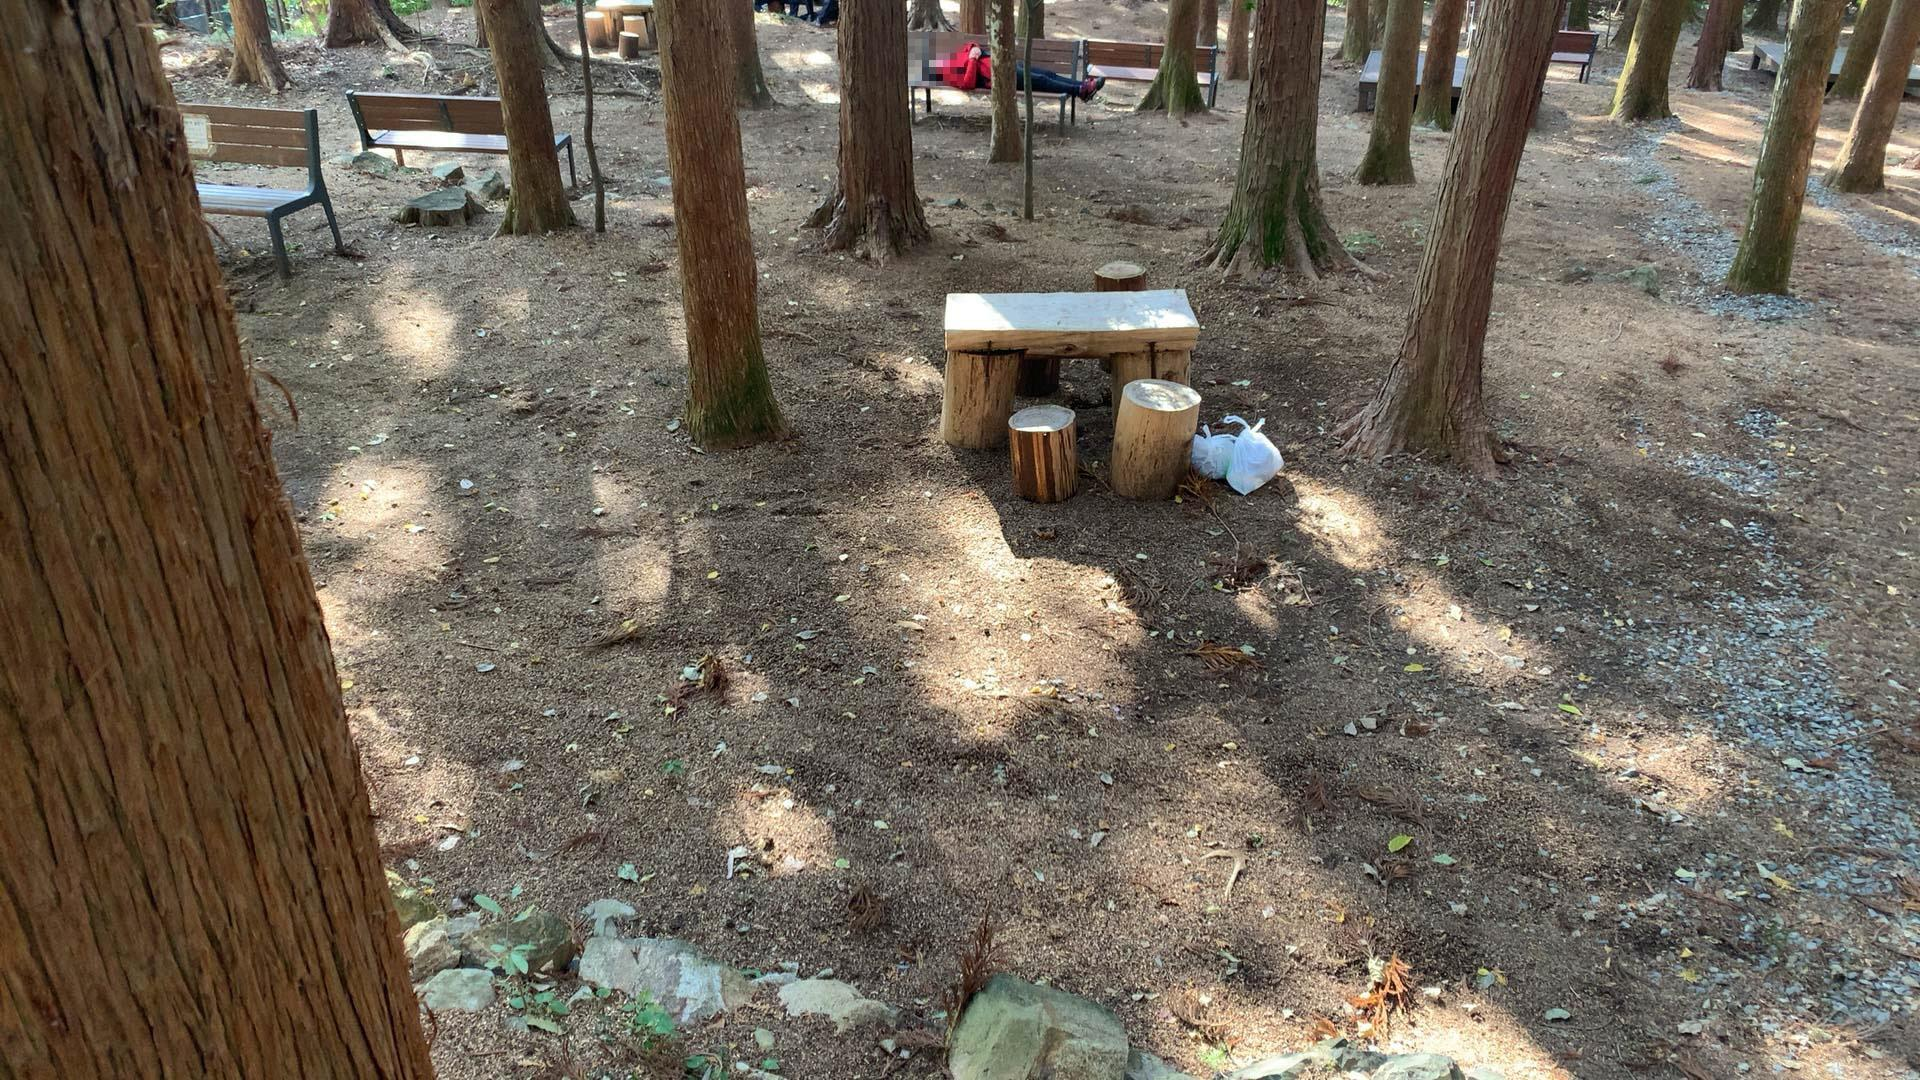white_bag: (1220, 410, 1287, 498), (1182, 419, 1245, 479)
